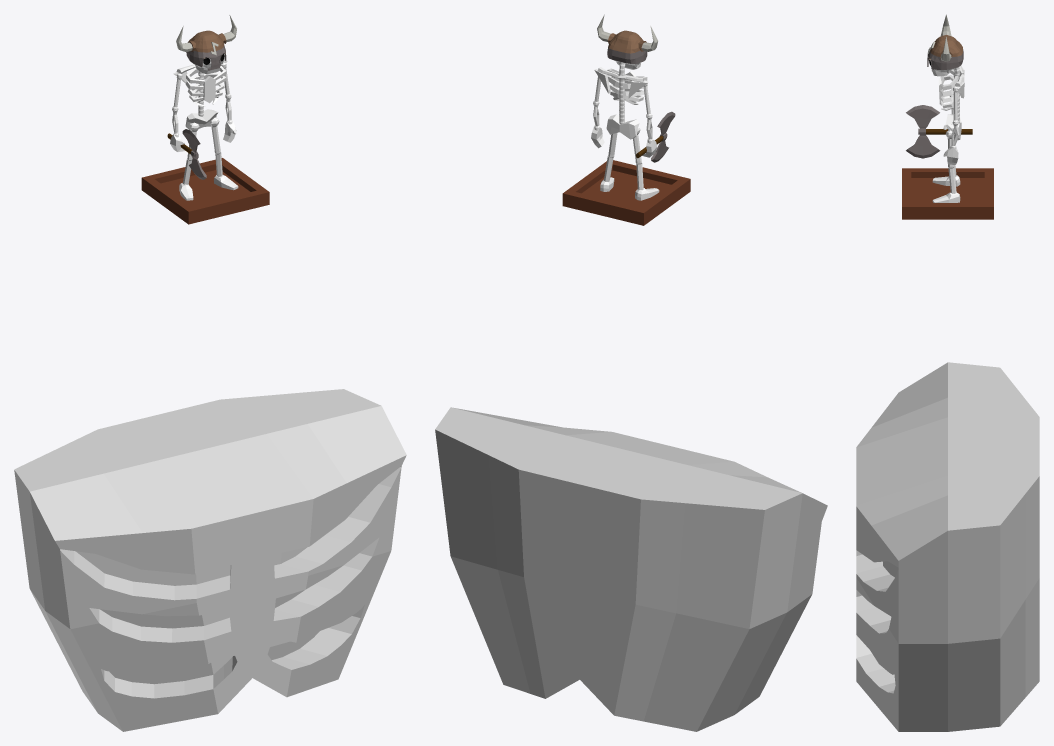
The model's file is 3d_minion_draugr.fbx.
The picture shows the model from 3 angles, left to right: view 1: azimuth 30°, elevation 25°; view 2: azimuth 150°, elevation 25°; view 3: azimuth 270°, elevation 25°; orthographic projection. The views are drawn at different scales.
Visible parts, largest first — view 1: Cube.001, skeleton, SM_will_o_wisp_01; view 2: Cube.001, skeleton, SM_will_o_wisp_01; view 3: Cube.001, skeleton, SM_will_o_wisp_01.
Boxes of the visible parts, bbox=[...] form: Cube.001: bbox=[14, 389, 406, 731]; skeleton: bbox=[167, 15, 238, 200]; SM_will_o_wisp_01: bbox=[141, 158, 269, 224]; Cube.001: bbox=[435, 407, 827, 731]; skeleton: bbox=[591, 14, 675, 200]; SM_will_o_wisp_01: bbox=[562, 160, 690, 225]; Cube.001: bbox=[856, 362, 1039, 731]; skeleton: bbox=[906, 14, 972, 202]; SM_will_o_wisp_01: bbox=[902, 168, 993, 219].
Bounding box in the file's own units: 434 × 788 × 200.
